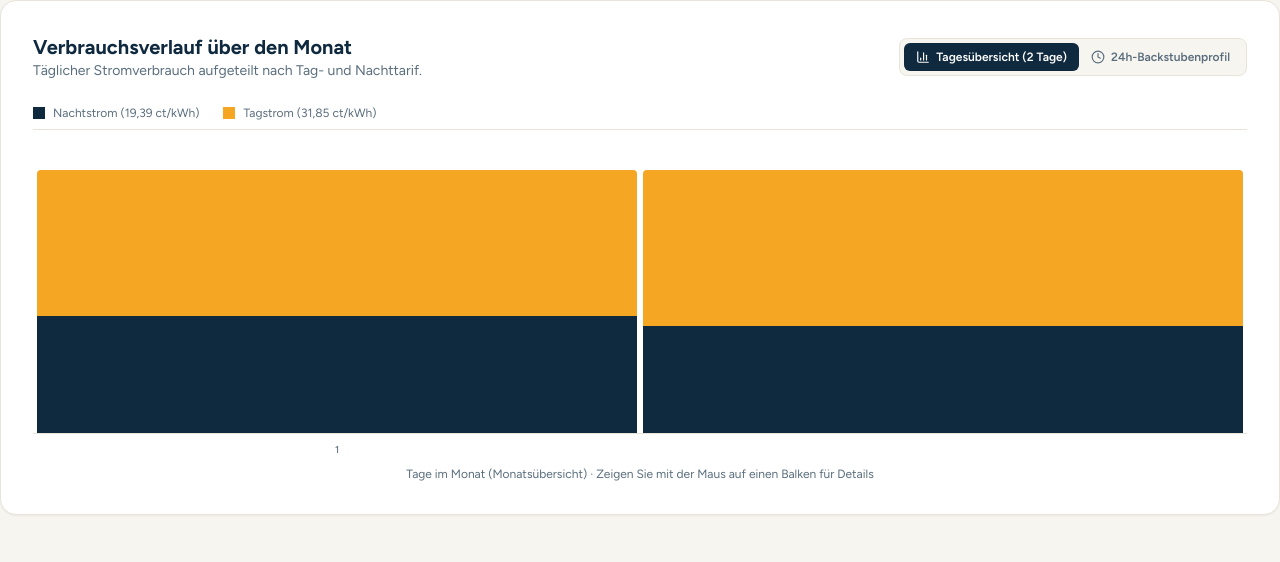
UsageChart component › allows toggling between daily breakdown and 24h baking profile
Expected: the heading "Verbrauchsverlauf über den Monat" is shown, left=33, top=35, right=352, bottom=59
# Click 24h profile button
Click the button "24h-Backstubenprofil" at (1160, 57), box left=1079, top=43, right=1242, bottom=71
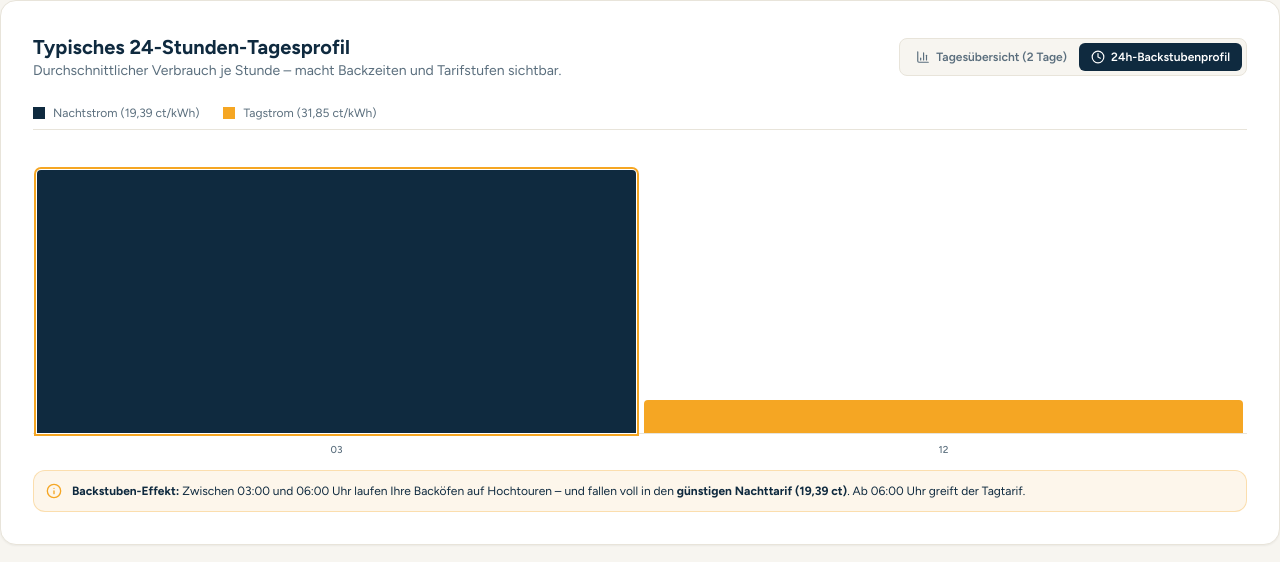
Now the heading "Typisches 24-Stunden-Tagesprofil" is shown, box left=33, top=35, right=350, bottom=59
Now the text "Backstuben-Effekt:" is shown, box left=72, top=484, right=179, bottom=498
